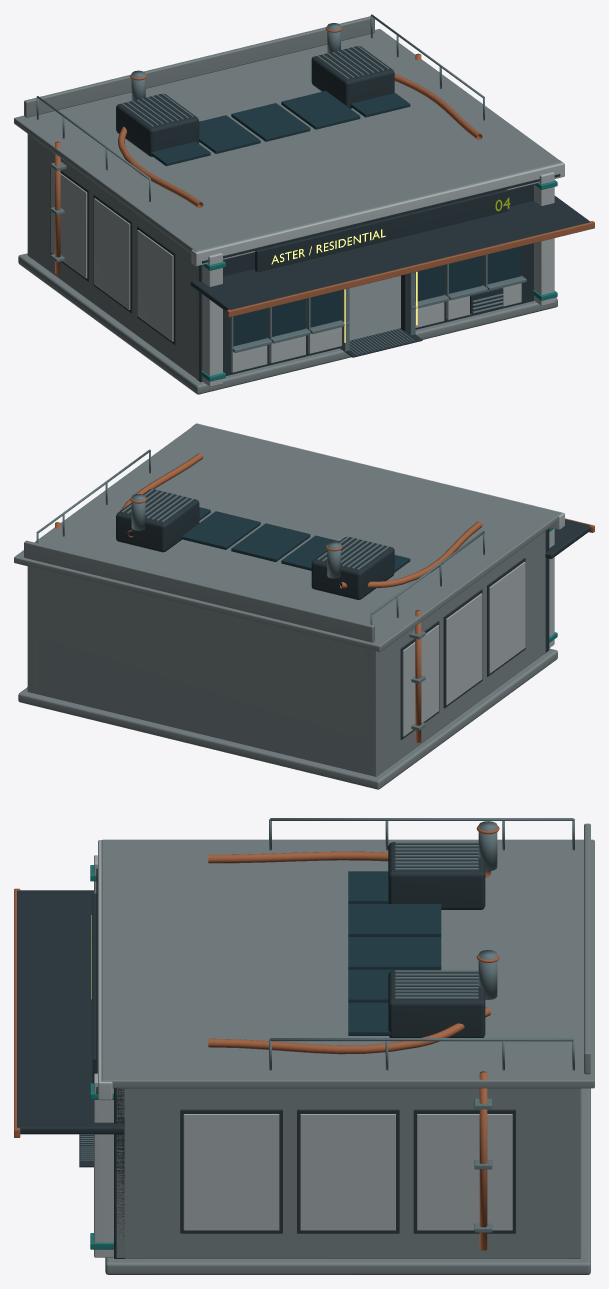
The model's file is habitat.glb.
The picture shows the model from 3 angles, top to bottom: view 1: azimuth 30°, elevation 25°; view 2: azimuth 150°, elevation 25°; view 3: azimuth 270°, elevation 25°; orthographic projection. The views are drawn at different scales.
Visible parts, largest first — view 1: habitat; view 2: habitat; view 3: habitat.
Part boxes in pixels (x1,y1,x2,y2): habitat: (14, 14, 594, 394); habitat: (14, 423, 594, 789); habitat: (14, 818, 594, 1274).
Bounding box in the file's own units: 14.81 × 7.6 × 14.95.
